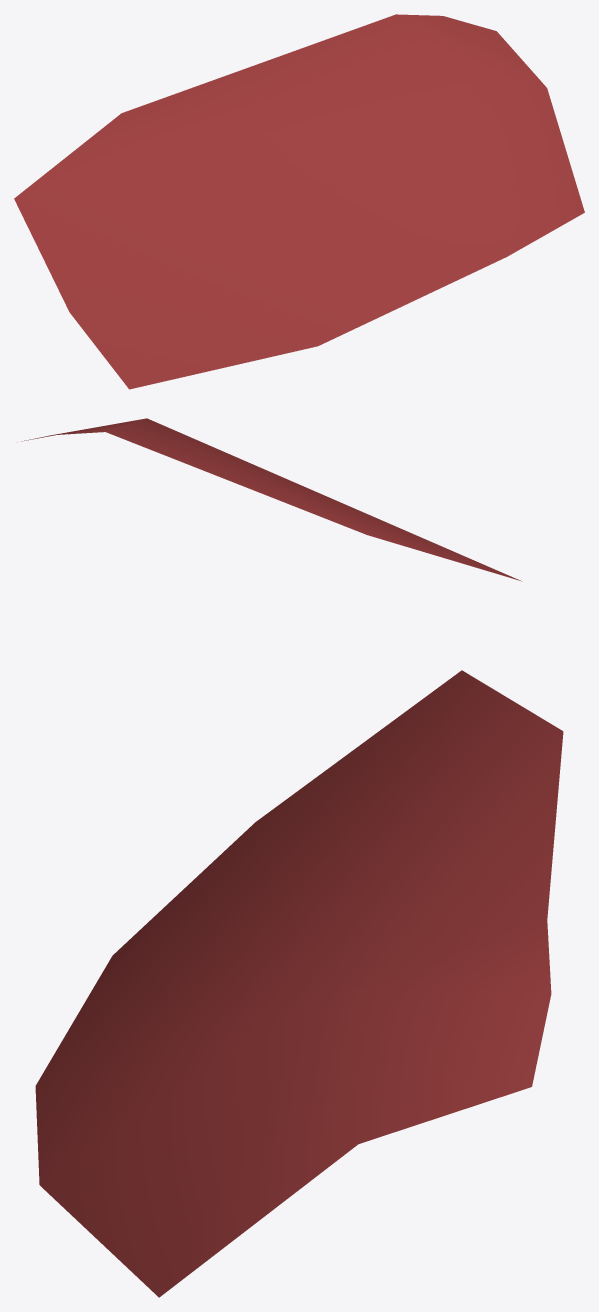
File: flexor-digitorum-profundus-e1r.glb
The picture shows the model from 3 angles, top to bottom: view 1: azimuth 30°, elevation 25°; view 2: azimuth 150°, elevation 25°; view 3: azimuth 270°, elevation 25°; orthographic projection. The views are drawn at different scales.
Parts seen in each view (by area): view 1: Flexor digitorum profundus.e1r; view 2: Flexor digitorum profundus.e1r; view 3: Flexor digitorum profundus.e1r.
Boxes of the visible parts, bbox=[...] form: Flexor digitorum profundus.e1r: bbox=[14, 14, 584, 389]; Flexor digitorum profundus.e1r: bbox=[21, 418, 521, 581]; Flexor digitorum profundus.e1r: bbox=[35, 670, 563, 1297].
Bounding box in the file's own units: 0.00384 × 0.00146 × 0.00176.
